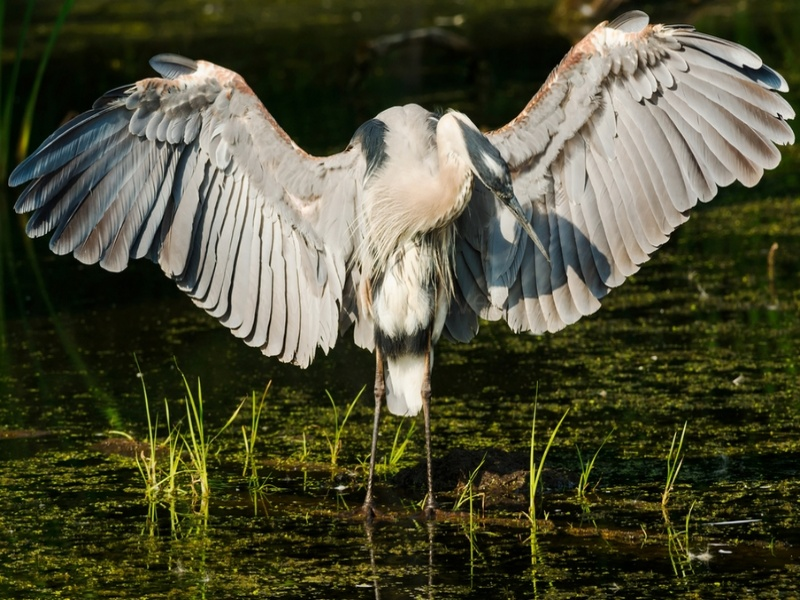heron: (13, 10, 793, 529)
